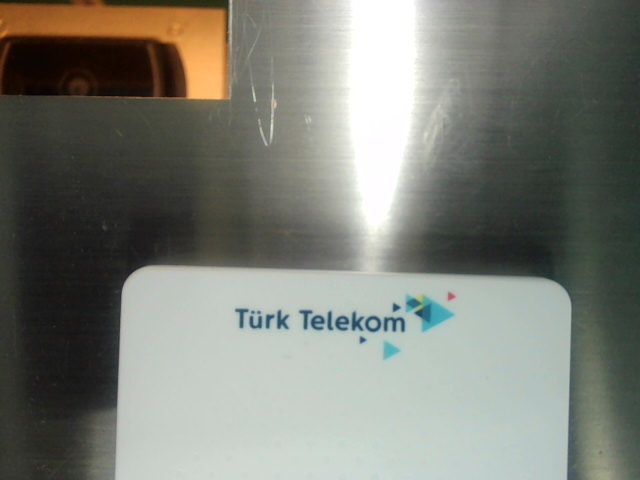AQ_TURKTelekom: (230, 286, 466, 362)
